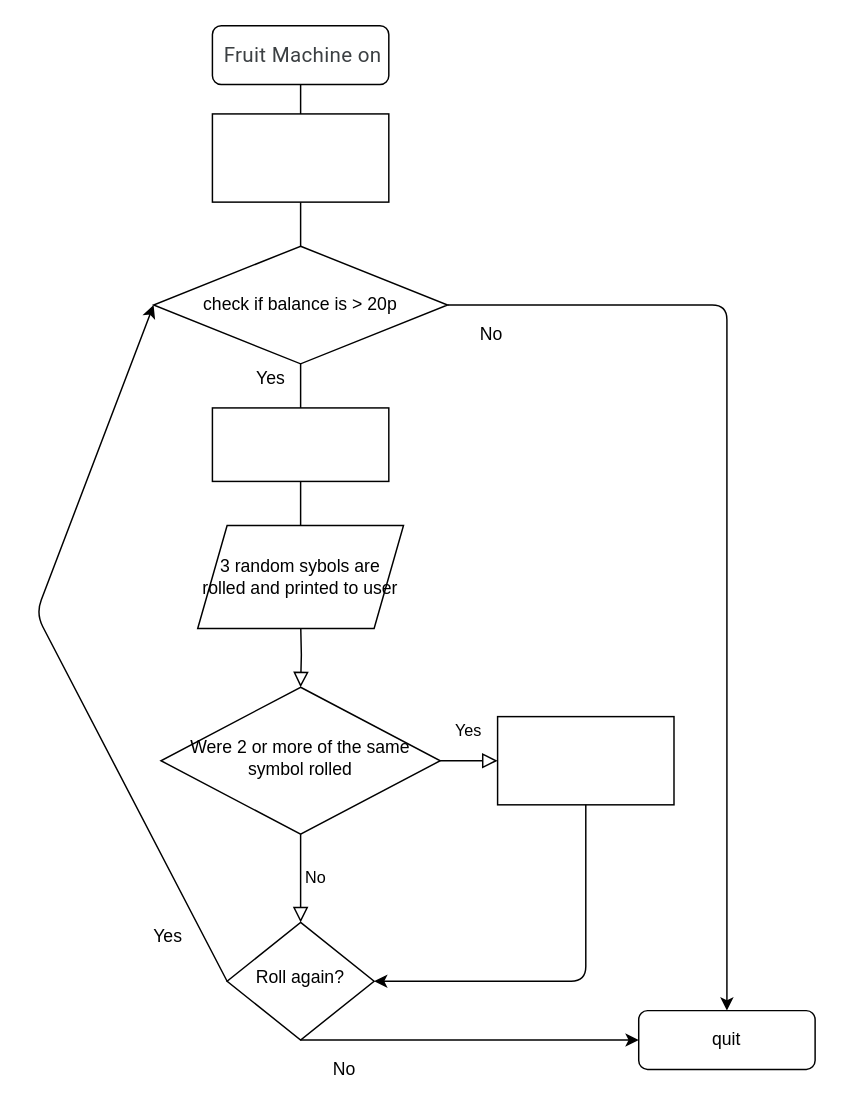
This 841x1110 diagram has some shape labels left out. The shapes that lost their labels are listed below. From the top down, each one's box as (x1, y1, x2, y2) in pixels, then its label:
(211, 112, 389, 202): Set credit to £1 set list of symbols
(211, 406, 389, 481): subract 20p
(496, 715, 674, 805): append balance based on winning rules
